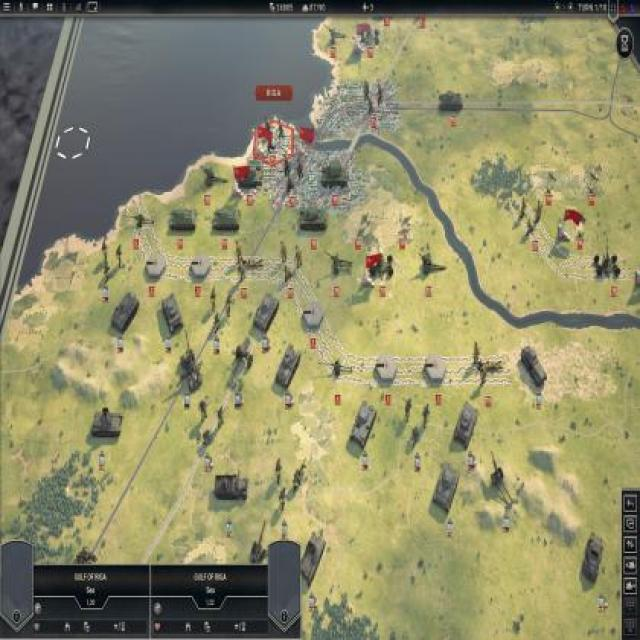tank: (430, 460, 461, 514), (300, 527, 326, 590), (348, 397, 379, 449), (579, 532, 607, 588), (274, 340, 304, 392), (452, 398, 479, 454), (110, 288, 138, 332), (252, 293, 280, 335), (90, 406, 123, 441), (315, 160, 352, 190), (522, 345, 546, 389), (158, 292, 183, 331), (297, 202, 329, 232), (213, 203, 243, 231), (438, 87, 464, 116), (171, 203, 198, 228)
